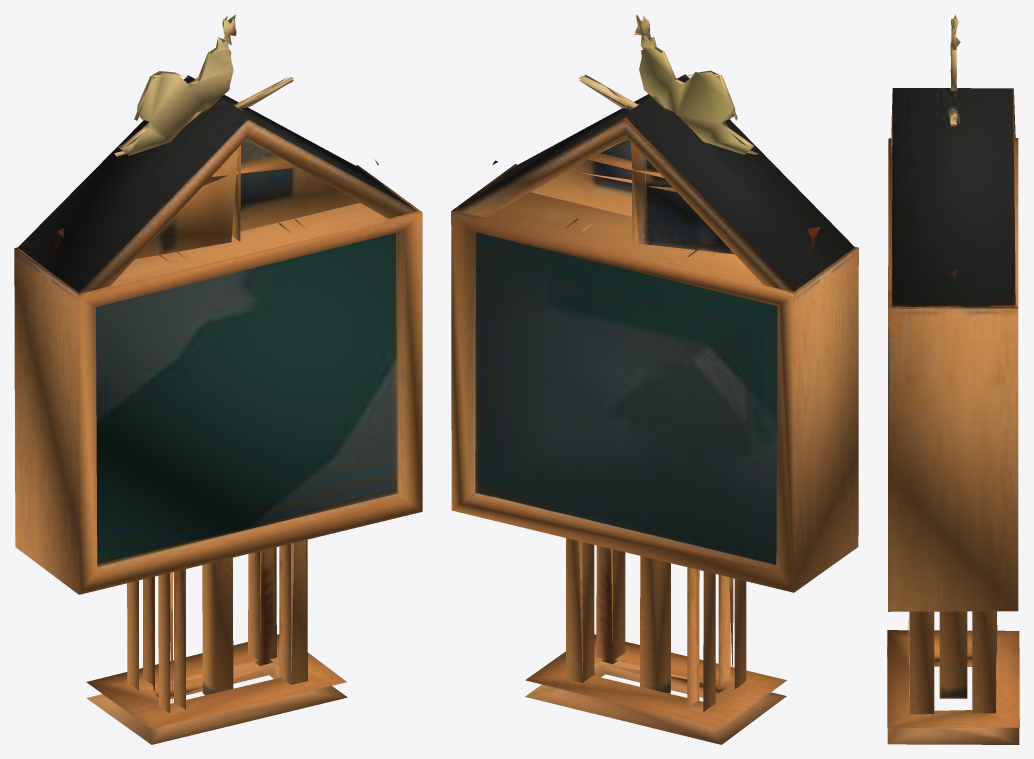
File: forecast-board.lod1.glb
The picture shows the model from 3 angles, left to right: view 1: azimuth 30°, elevation 25°; view 2: azimuth 150°, elevation 25°; view 3: azimuth 270°, elevation 25°; orthographic projection.
Visible parts, largest first — view 1: forecast-board, vane; view 2: forecast-board, vane; view 3: forecast-board, vane.
Part boxes in pixels (x1,y1,x2,y2): forecast-board: (14, 75, 422, 744); vane: (114, 14, 293, 156); forecast-board: (451, 74, 858, 744); vane: (579, 15, 758, 154); forecast-board: (887, 88, 1019, 744); vane: (949, 14, 960, 126).
Bounding box in the file's own units: 0.952 × 1.8 × 0.3144.
Materials: 1 (1 with a texture image).
